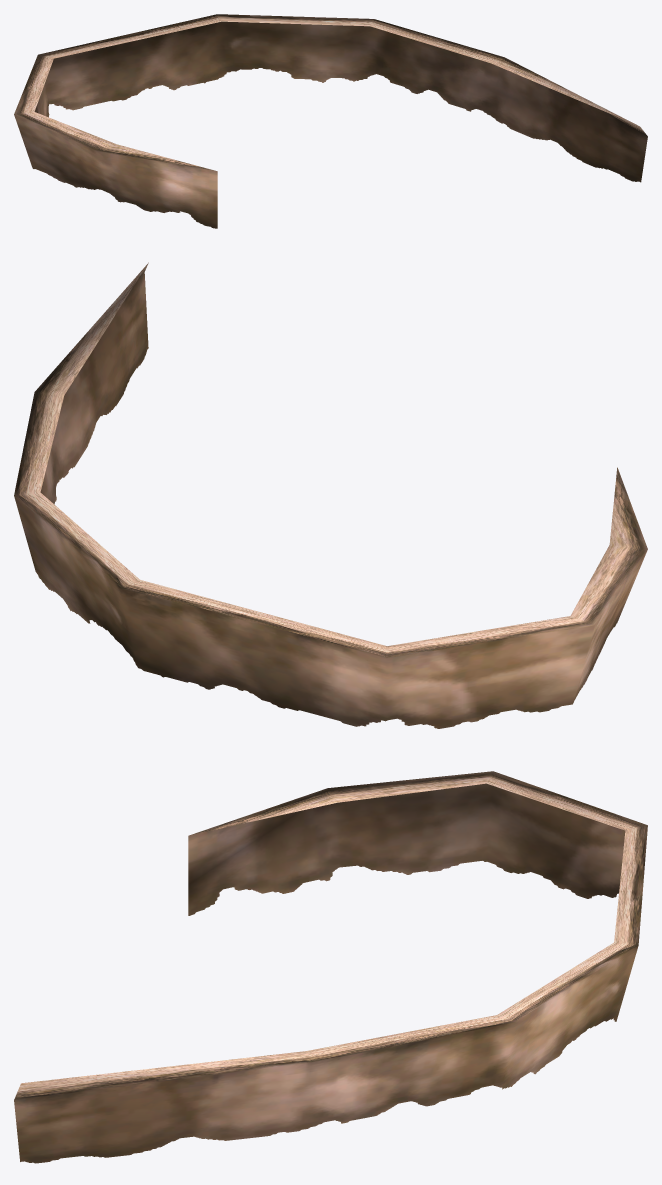
The model's file is OVERHILL_A_01_LINE180.fbx.
The picture shows the model from 3 angles, top to bottom: view 1: azimuth 30°, elevation 25°; view 2: azimuth 150°, elevation 25°; view 3: azimuth 270°, elevation 25°; orthographic projection. The views are drawn at different scales.
Visible parts, largest first — view 1: OVERHILL_A_01_LINE180; view 2: OVERHILL_A_01_LINE180; view 3: OVERHILL_A_01_LINE180.
Part boxes in pixels (left/top/right/bottom): OVERHILL_A_01_LINE180: left=14, top=14, right=647, bottom=228; OVERHILL_A_01_LINE180: left=14, top=262, right=647, bottom=728; OVERHILL_A_01_LINE180: left=14, top=771, right=647, bottom=1163.
Size of the model in its own units: 26702 by 3450 by 22663.
Materials: 1 (1 with a texture image).
